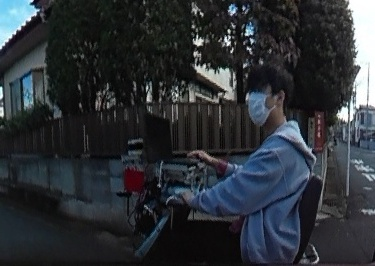person: (205, 66, 316, 266)
